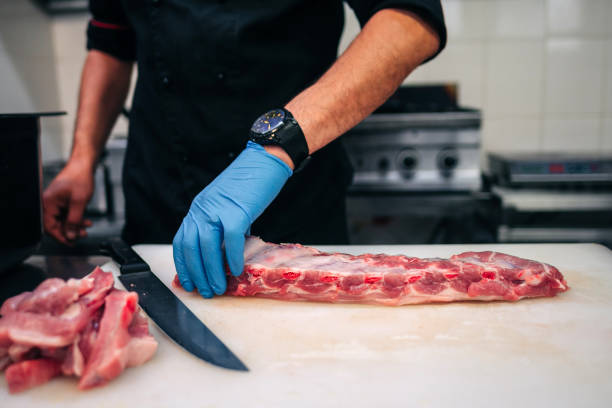knife: (104, 234, 253, 373)
